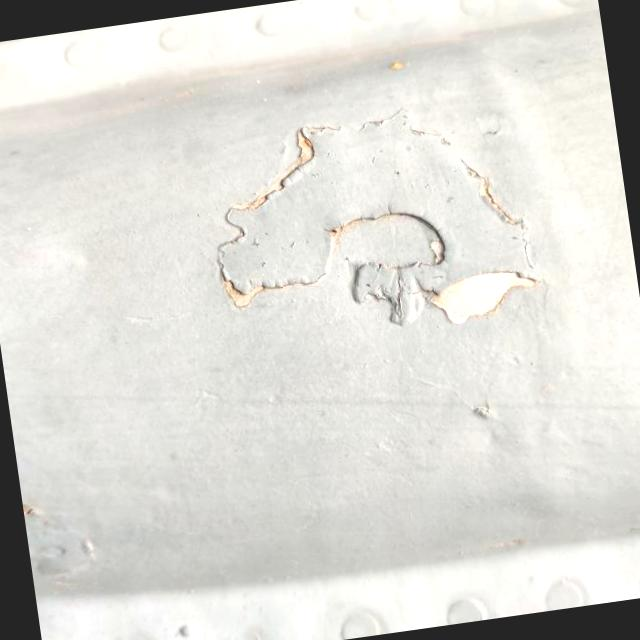paint-off: (414, 252, 553, 344)
